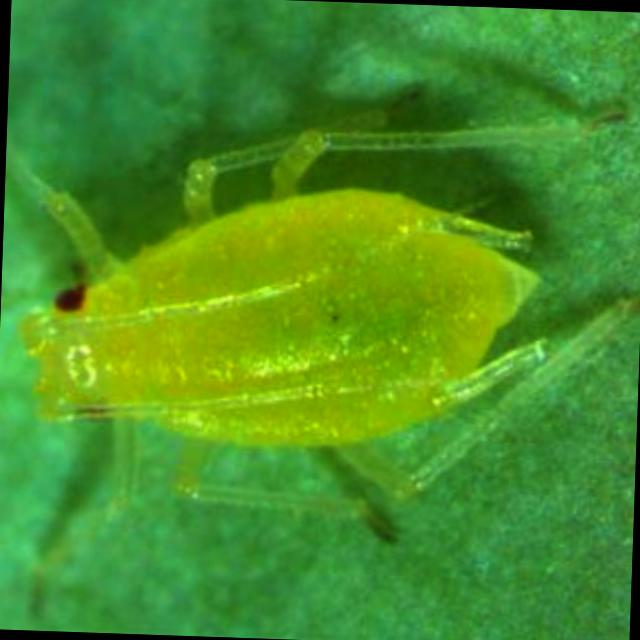Green peach aphid: (5, 50, 635, 594)
